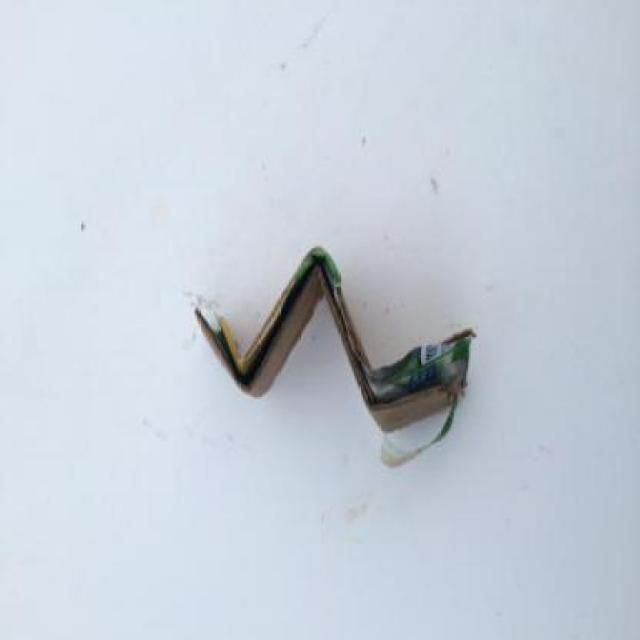box: (172, 192, 538, 510)
